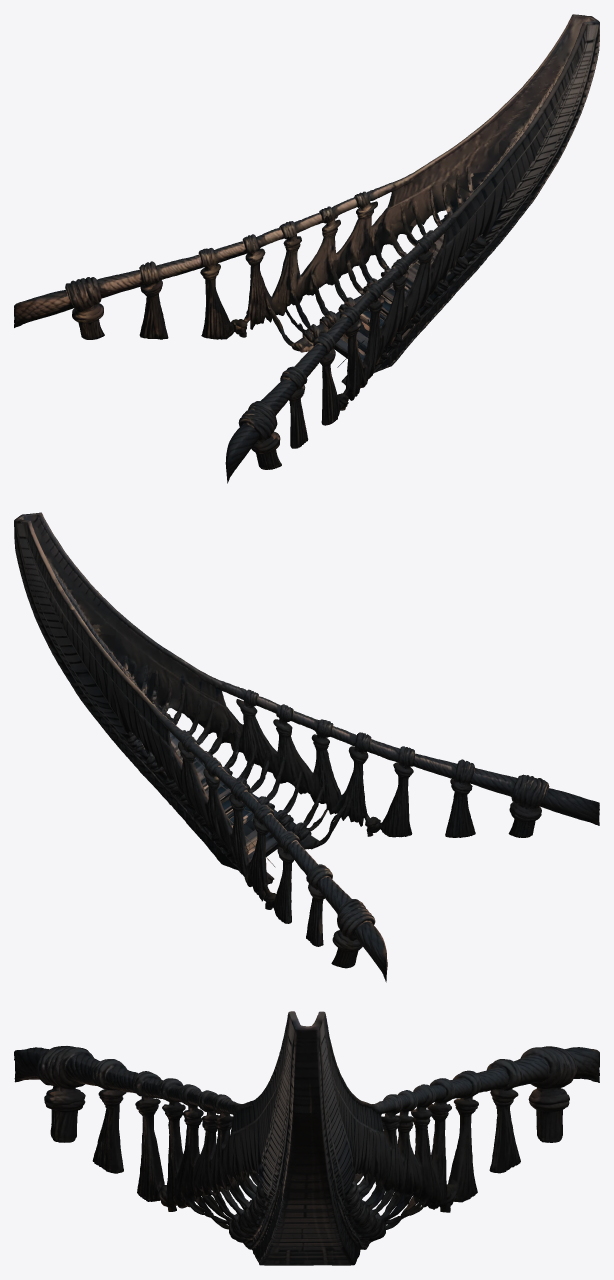
The model's file is bridge.glb.
The picture shows the model from 3 angles, top to bottom: view 1: azimuth 30°, elevation 25°; view 2: azimuth 150°, elevation 25°; view 3: azimuth 270°, elevation 25°; orthographic projection. The views are drawn at different scales.
Parts seen in each view (by area): view 1: tmp6msdd729obj; view 2: tmp6msdd729obj; view 3: tmp6msdd729obj.
Part boxes in pixels (x1,y1,x2,y2): tmp6msdd729obj: [14, 14, 599, 483]; tmp6msdd729obj: [14, 512, 599, 982]; tmp6msdd729obj: [14, 1011, 599, 1265].
Bounding box in the file's own units: 1 × 0.5728 × 0.7782.
1 material, 1 textured.
